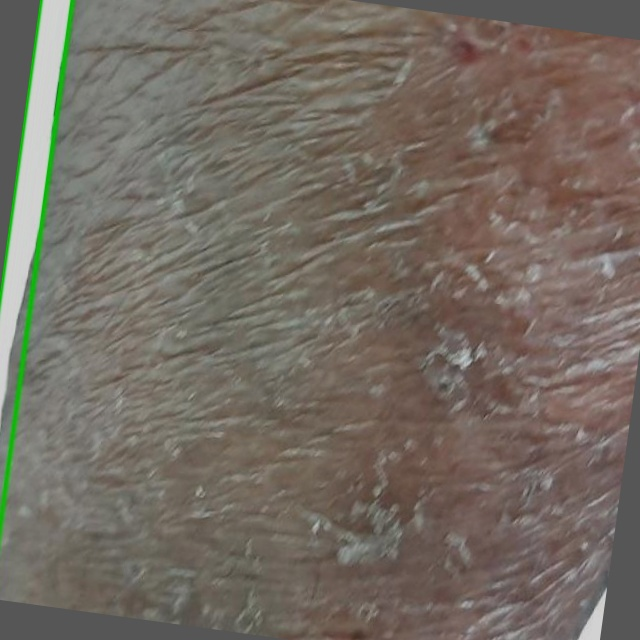Tinea Corporis: (0, 0, 72, 525)
